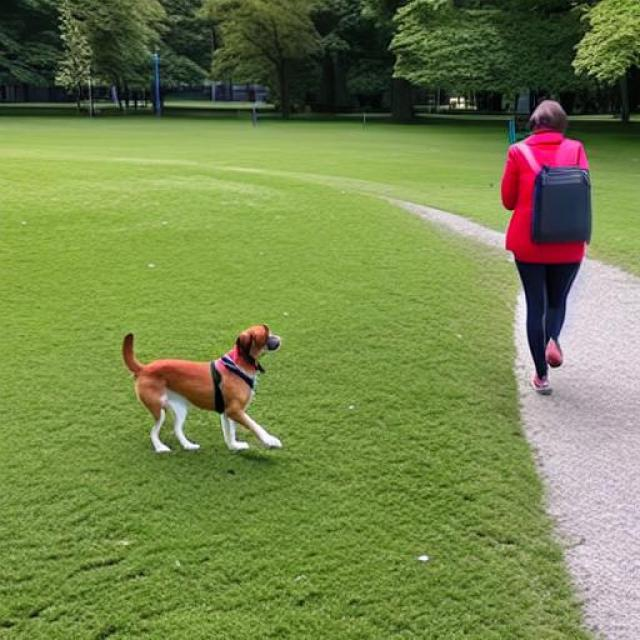Unleashed_Dog: (124, 261, 577, 454)
